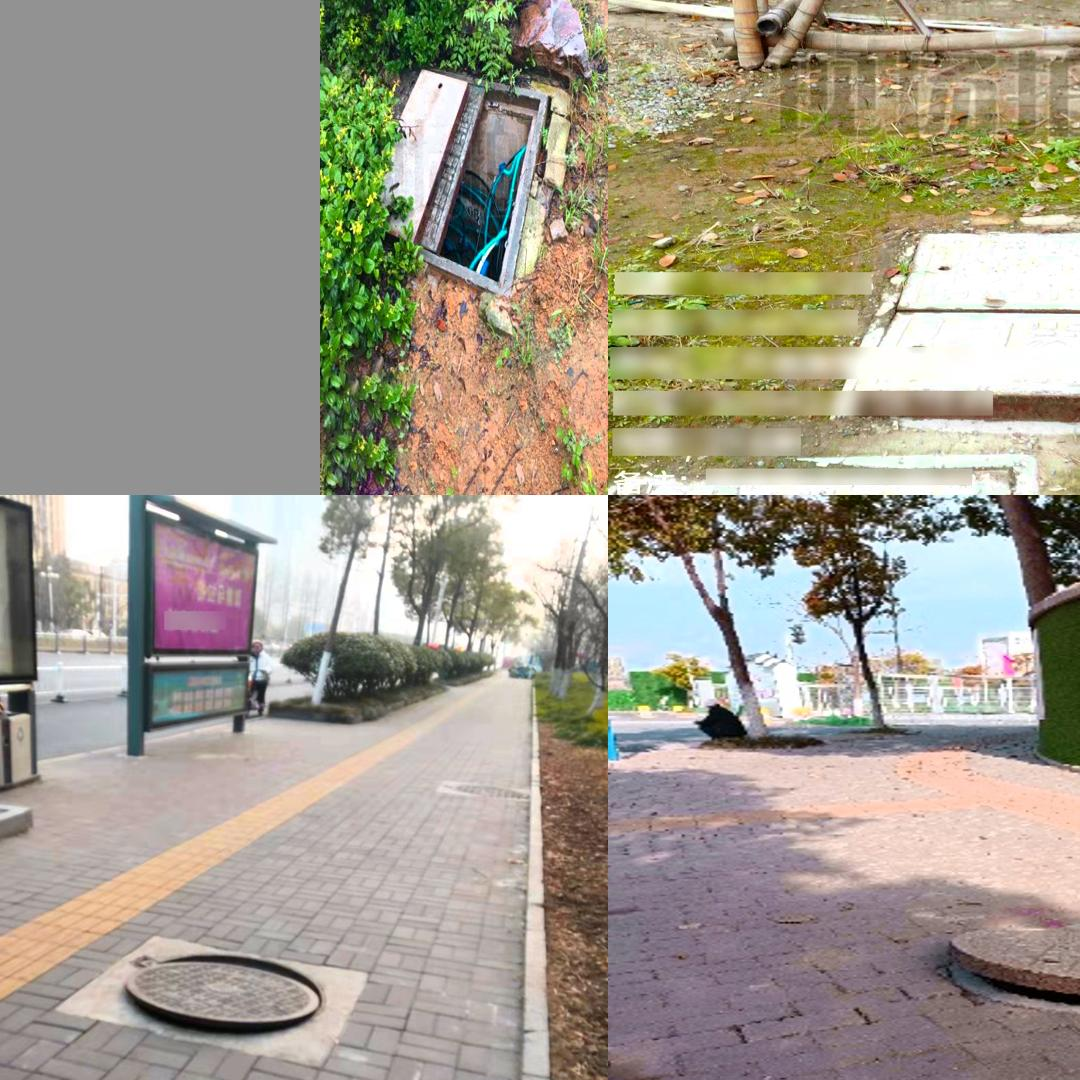uncovered: (876, 216, 1080, 416), (379, 69, 551, 295), (119, 950, 328, 1041), (943, 925, 1080, 1016)
